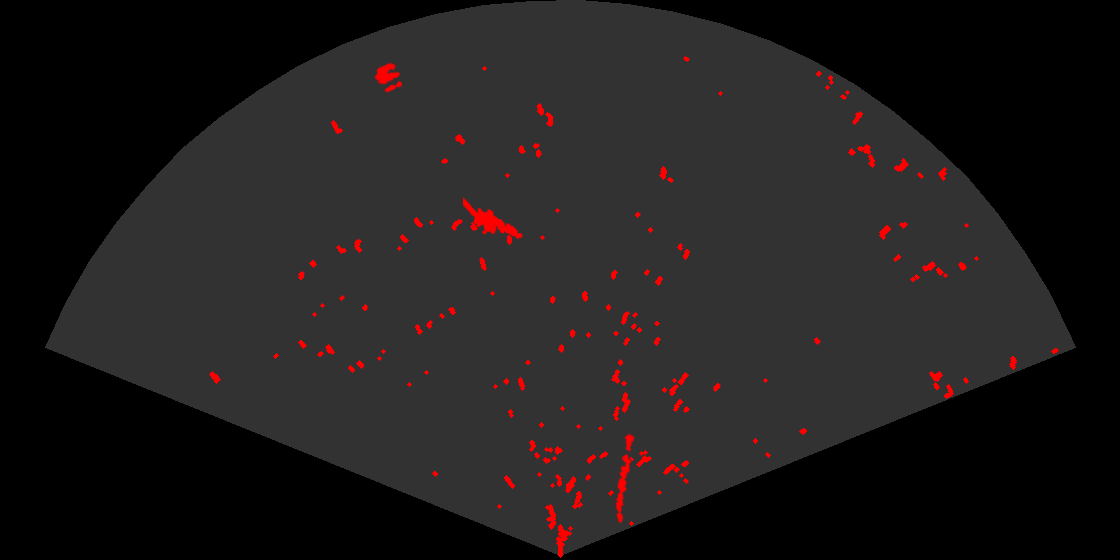ball: (373, 61, 404, 94)
chain: (614, 429, 636, 524)
frogman: (463, 196, 524, 241)
